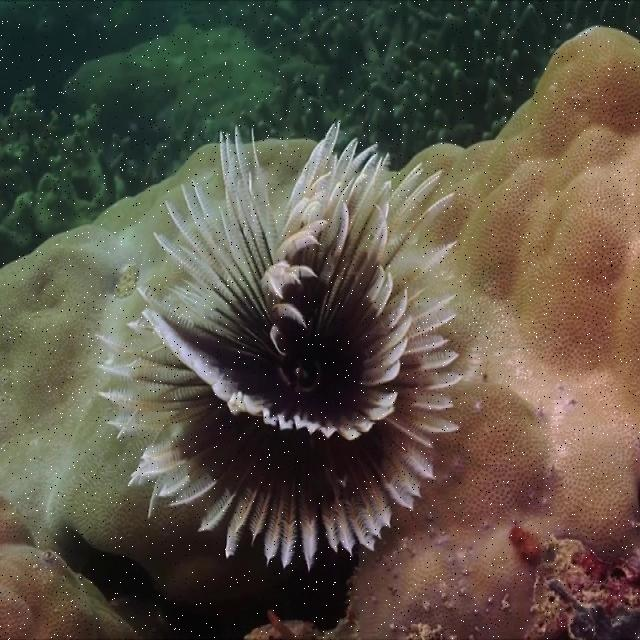reefs: (96, 118, 464, 572)
sea-floor: (1, 26, 638, 639)
